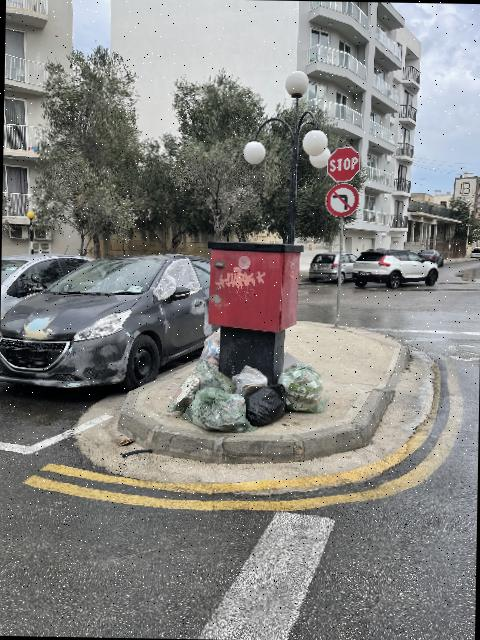Mixed -Black-: (245, 384, 286, 427)
Other: (167, 361, 234, 413), (183, 388, 250, 432), (278, 363, 328, 413), (283, 352, 300, 370)
Recyclable -Grey-: (231, 365, 267, 397), (200, 329, 219, 369)
